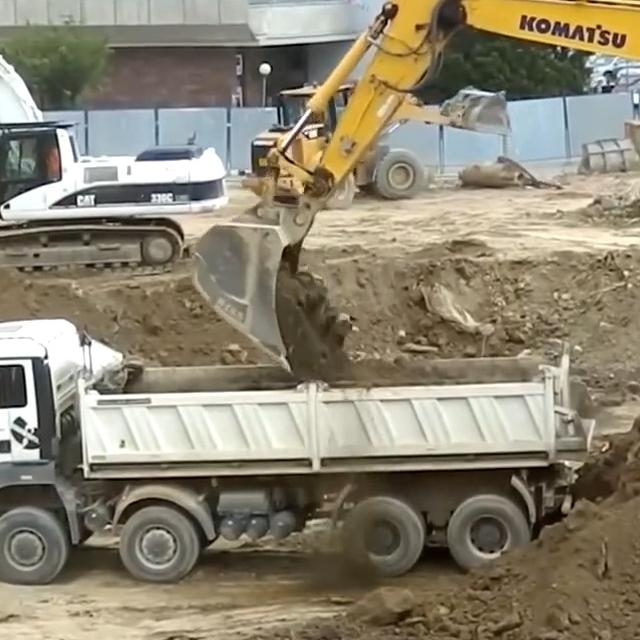Excavator: (190, 0, 640, 413), (0, 0, 229, 274)
NO-Hardhat: (31, 148, 40, 155)
NO-Safety Vest: (31, 159, 42, 182)
Person: (2, 148, 41, 200)
dump truck: (0, 316, 597, 583)
vehicle: (588, 54, 640, 79), (613, 73, 640, 91), (630, 78, 640, 91)
wheel loader: (250, 81, 512, 201)
